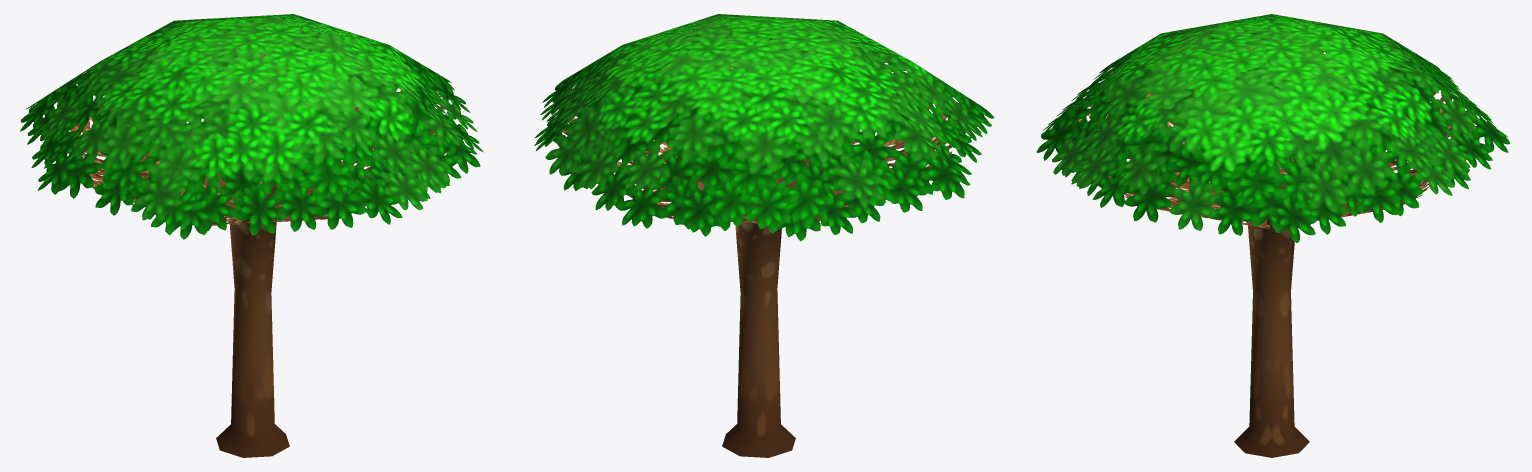
The model's file is Tree_02a.FBX.
3 renders of one model, left to right at view 1: azimuth 30°, elevation 25°; view 2: azimuth 150°, elevation 25°; view 3: azimuth 270°, elevation 25°, orthographic.
Parts seen in each view (by area): view 1: Tree_02a; view 2: Tree_02a; view 3: Tree_02a.
Boxes of the visible parts, x1=… form: Tree_02a: x1=20, y1=14, x2=483, y2=457; Tree_02a: x1=534, y1=14, x2=993, y2=457; Tree_02a: x1=1036, y1=14, x2=1510, y2=457.
Bounding box in the file's own units: 88.51 × 78.4 × 88.51.
